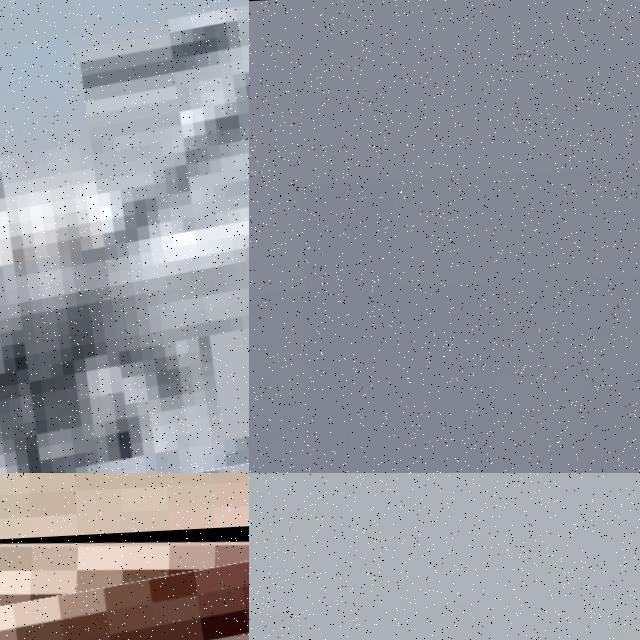0: (0, 0, 249, 473)
drone: (0, 511, 249, 640)
